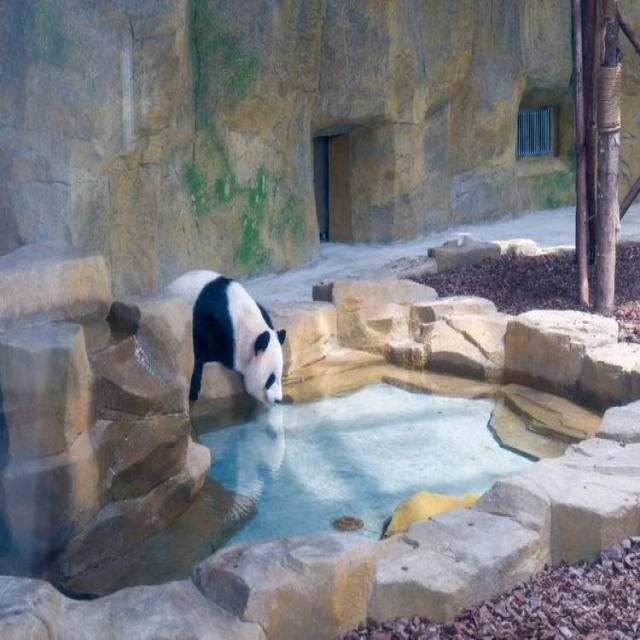panda: (142, 266, 286, 422)
